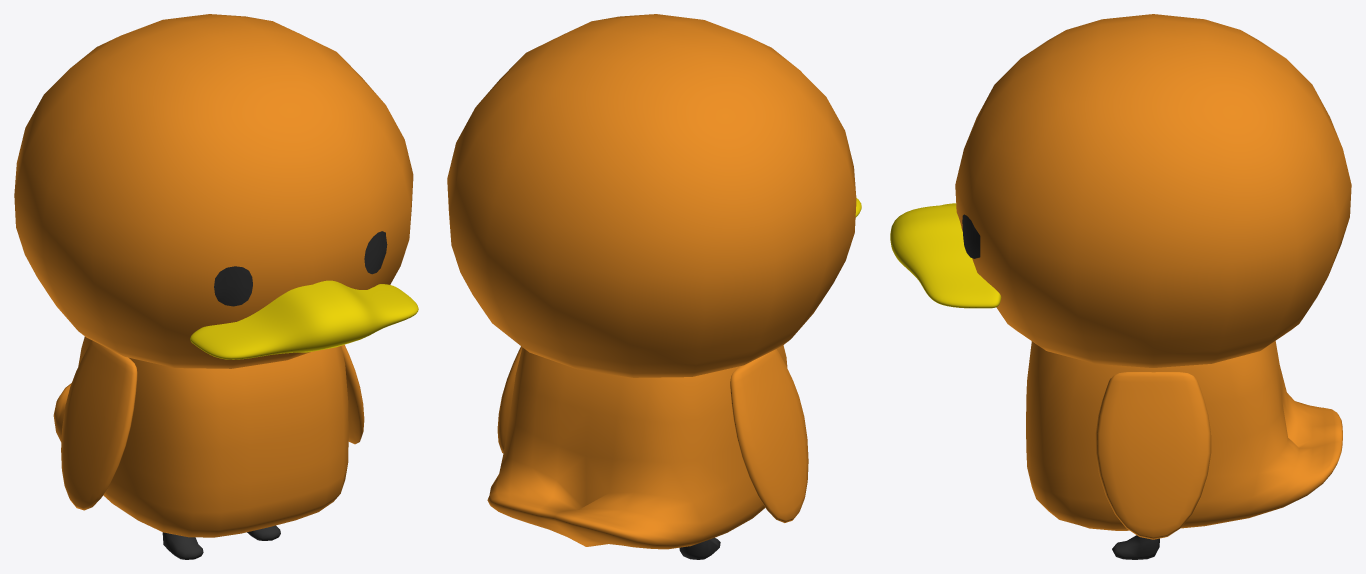
File: BirdModel.fbx
3 views of the same model, side by side, from view 1: azimuth 30°, elevation 25°; view 2: azimuth 150°, elevation 25°; view 3: azimuth 270°, elevation 25° (orthographic). The views are drawn at different scales.
Visible parts, largest first — view 1: Head, Body, Beak, ArmR, EyeR, ArmL, LegL, EyeL; view 2: Head, Body, ArmR, ArmL, LegL; view 3: Head, Body, ArmL, Beak, LegR, EyeL.
Boxes of the visible parts, x1,y1,x2,y2 form: Head: (14, 14, 413, 368); Body: (53, 336, 348, 537); Beak: (190, 280, 418, 359); ArmR: (61, 341, 137, 510); EyeR: (214, 266, 252, 306); ArmL: (341, 345, 364, 444); LegL: (162, 532, 203, 559); EyeL: (364, 231, 387, 274); Head: (447, 14, 856, 377); Body: (487, 345, 787, 549); ArmR: (730, 349, 808, 522); ArmL: (497, 346, 522, 452); LegL: (679, 537, 720, 559); Head: (955, 14, 1351, 367); Body: (1026, 341, 1342, 530); ArmL: (1095, 372, 1211, 539); Beak: (890, 203, 1001, 308); LegR: (1112, 535, 1159, 559); EyeL: (962, 214, 980, 258).
Bounding box in the file's own units: 311 × 433 × 362.
